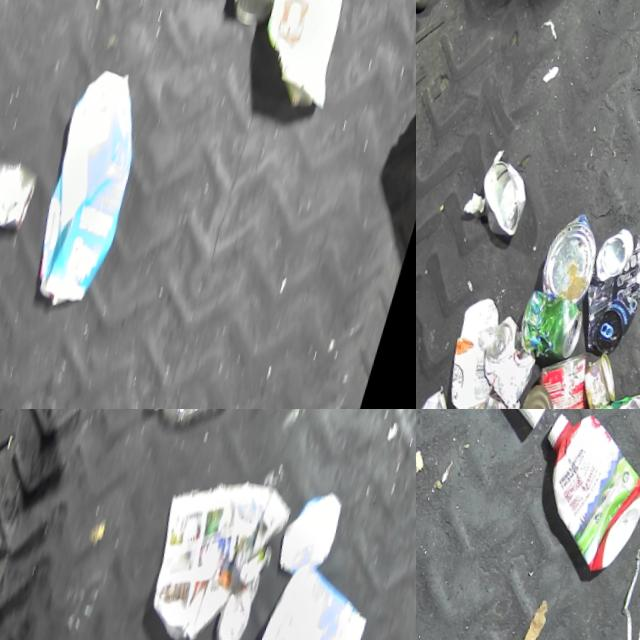can: (576, 212, 640, 352), (480, 306, 554, 408), (540, 198, 614, 300), (214, 524, 279, 640), (520, 335, 618, 409), (521, 281, 597, 361), (474, 147, 541, 235), (0, 146, 47, 230), (582, 341, 634, 409), (503, 374, 584, 409), (592, 370, 640, 409), (416, 380, 469, 409), (220, 0, 290, 20), (0, 564, 18, 640)
non_white_jug: (25, 47, 166, 315), (518, 409, 640, 570)
plastic_bottle: (140, 409, 255, 437)
